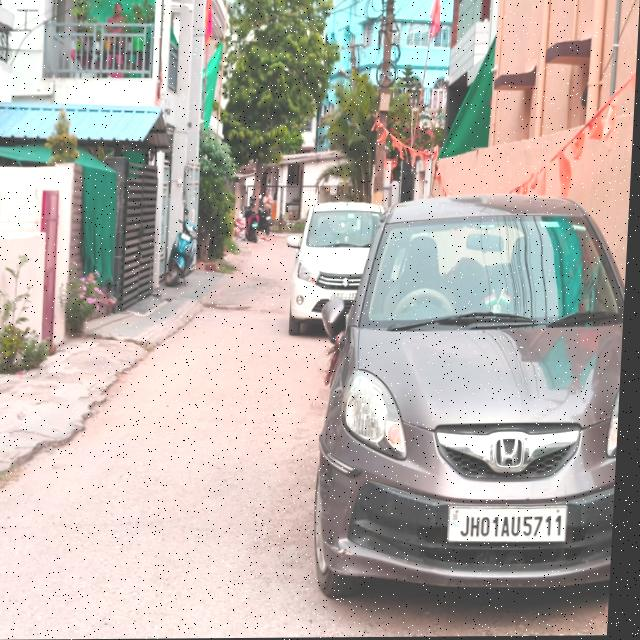bike: (168, 206, 209, 300), (243, 196, 264, 246), (259, 201, 277, 236)
car: (313, 178, 632, 626), (288, 186, 391, 339)
